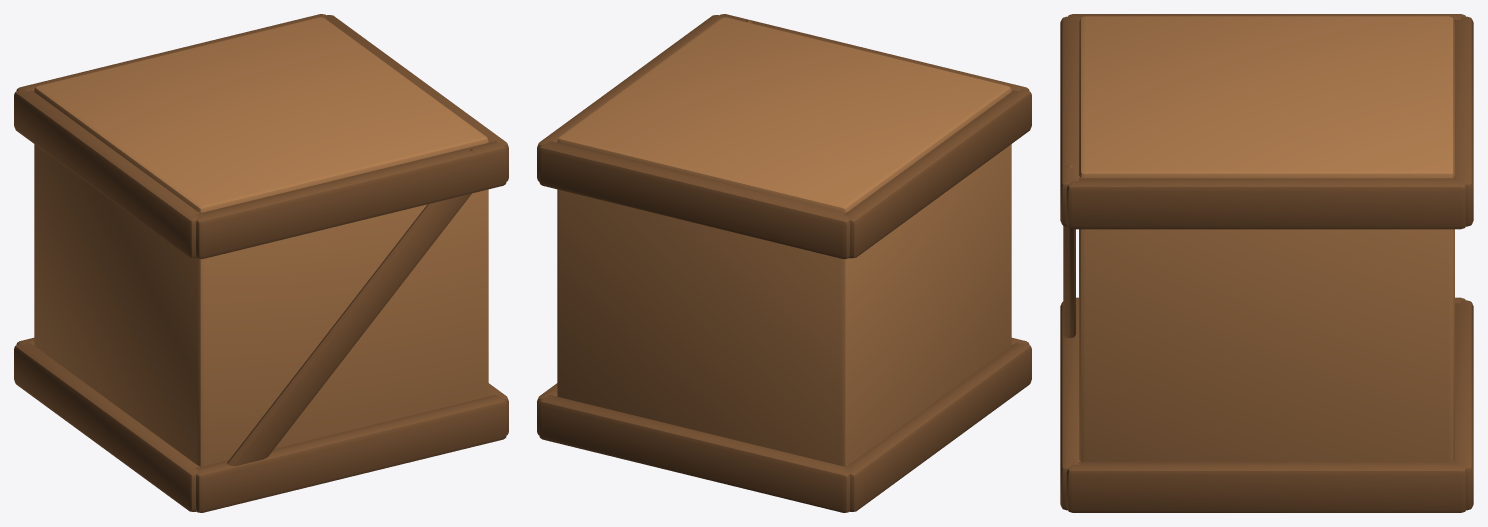
File: crate.glb
3 renders of one model, left to right at view 1: azimuth 30°, elevation 25°; view 2: azimuth 150°, elevation 25°; view 3: azimuth 270°, elevation 25°, orthographic. The views are drawn at different scales.
Parts seen in each view (by area): view 1: CrateMesh; view 2: CrateMesh; view 3: CrateMesh.
Part boxes in pixels (x1,y1,x2,y2): CrateMesh: [14, 14, 508, 512]; CrateMesh: [537, 14, 1031, 512]; CrateMesh: [1060, 14, 1473, 512].
Bounding box in the file's own units: 0.66 × 0.6 × 0.66.
